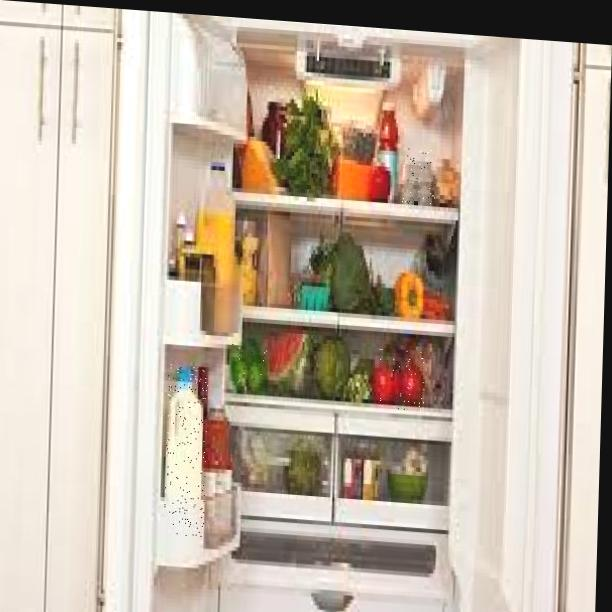eggs: (402, 148, 438, 211)
lime: (228, 341, 268, 388)
milk: (163, 364, 209, 537)
tomatoes: (378, 344, 426, 415)
